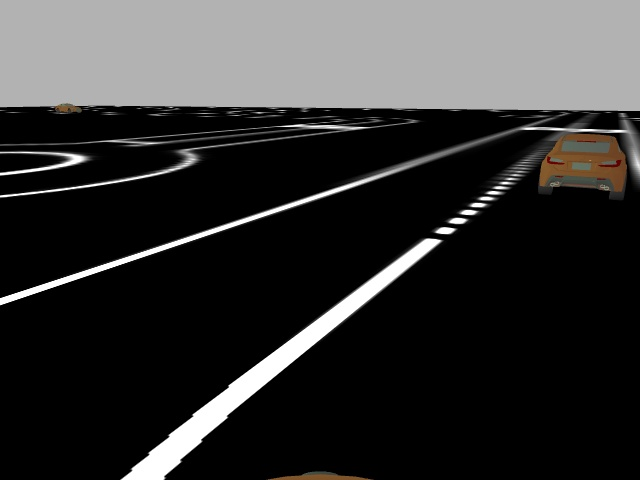obstacle_car: (536, 131, 629, 203)
